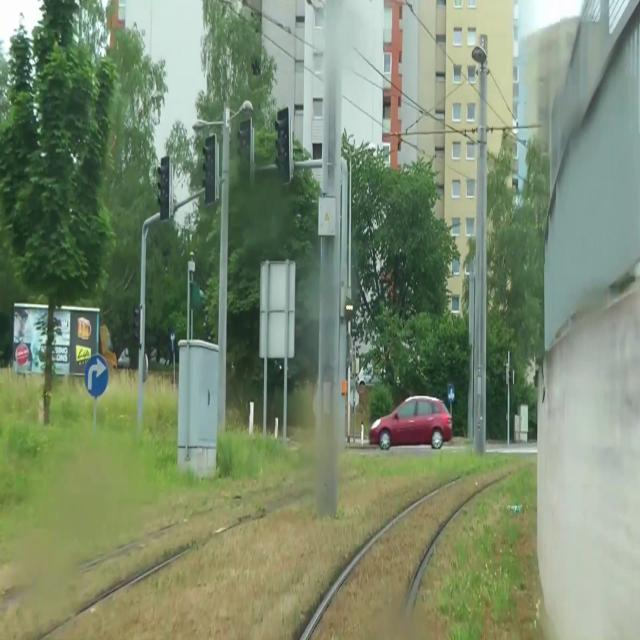rail-track: (0, 472, 317, 639), (307, 457, 526, 639), (338, 449, 377, 475)
